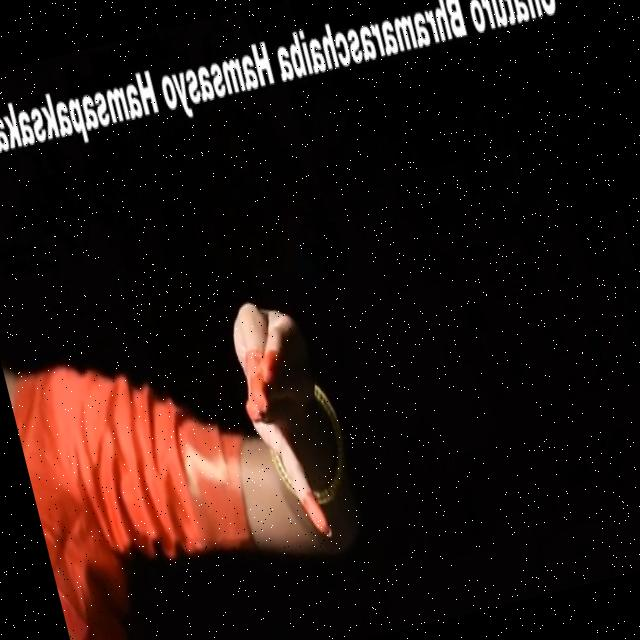Chatura: (196, 270, 362, 568)
text: (0, 0, 569, 187)
